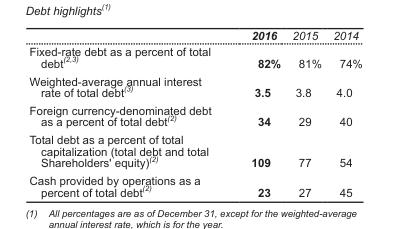table: (28, 28, 361, 198)
table column: (28, 28, 230, 198), (230, 28, 285, 198), (285, 28, 326, 198), (326, 28, 361, 198)
table column header: (28, 28, 361, 43)
table row: (28, 130, 361, 171), (28, 100, 361, 130), (28, 71, 361, 100), (28, 43, 361, 71), (28, 171, 361, 198), (28, 28, 361, 43)
